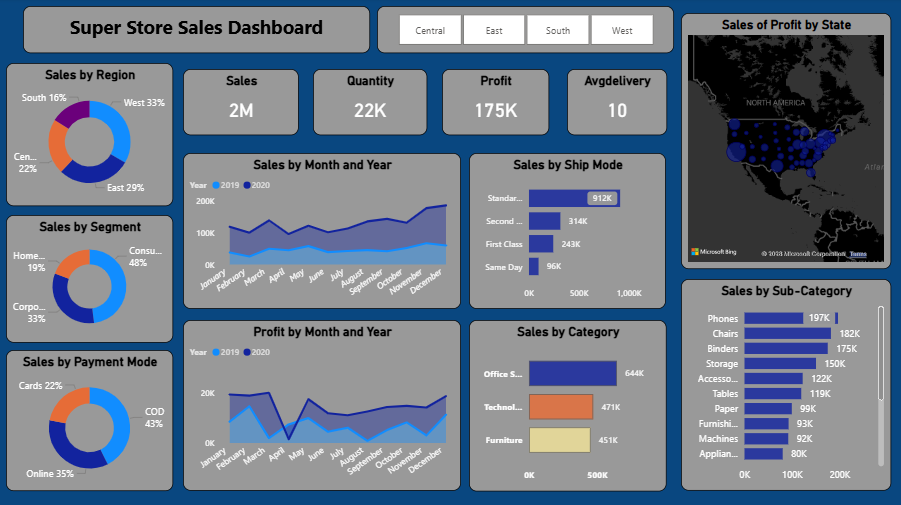

The dashboard page shown, as its layout file describes it:
{"tool":"powerbi","page":{"name":"P1 Sales Dashboard","canvas":[1280,720],"ordinal":0},"visuals":[{"type":"clusteredBarChart","title":"Sales by Category","fields":{"Category":["SuperStore_Sales_Dataset.Category"],"Y":["Sum(SuperStore_Sales_Dataset.Sales)"]},"box":[667.1,455.7,280,242.9],"z":0},{"type":"clusteredBarChart","title":"Sales by Sub-Category","fields":{"Category":["SuperStore_Sales_Dataset.Sub-Category"],"Y":["Sum(SuperStore_Sales_Dataset.Sales)"]},"box":[968,398.3,297.6,300.5],"z":1000},{"type":"clusteredBarChart","title":"Sales by Ship Mode","fields":{"Category":["SuperStore_Sales_Dataset.Ship Mode"],"Y":["Sum(SuperStore_Sales_Dataset.Sales)"]},"box":[667.6,219.7,279.2,221.1],"z":2000},{"type":"map","title":"Sales of Profit by State","fields":{"Category":["SuperStore_Sales_Dataset.State"],"Size":["Sum(SuperStore_Sales_Dataset.Sales)"]},"box":[968,21.3,297.6,362.8],"z":3000},{"type":"donutChart","title":"Sales by Segment","fields":{"Category":["SuperStore_Sales_Dataset.Segment"],"Y":["Sum(SuperStore_Sales_Dataset.Sales)"]},"box":[11.3,307.6,236.7,181.4],"z":4000},{"type":"donutChart","title":"Sales by Payment Mode","fields":{"Y":["Sum(SuperStore_Sales_Dataset.Sales)"],"Category":["SuperStore_Sales_Dataset.Payment Mode"]},"box":[11.3,498.9,236.7,199.8],"z":5000},{"type":"slicer","fields":{"Values":["SuperStore_Sales_Dataset.Region"]},"box":[537.2,11.3,420.9,66.6],"z":6000},{"type":"textbox","box":[35.4,11.3,491.8,66.6],"z":7000},{"type":"card","title":"Sales","fields":{"Values":["Sum(SuperStore_Sales_Dataset.Sales)"]},"box":[262.2,100.6,164.4,93.5],"z":8000},{"type":"card","title":"Quantity","fields":{"Values":["Sum(SuperStore_Sales_Dataset.Quantity)"]},"box":[446.5,100.6,161.6,93.5],"z":9000},{"type":"card","title":"Profit","fields":{"Values":["Sum(SuperStore_Sales_Dataset.Profit)"]},"box":[629.3,100.6,151.7,93.5],"z":10000},{"type":"stackedAreaChart","title":"Sales by Month and Year","fields":{"Y":["Sum(SuperStore_Sales_Dataset.Sales)"],"Category":["SuperStore_Sales_Dataset.Order Date.Variation.Date Hierarchy.Month"],"Series":["SuperStore_Sales_Dataset.Order Date.Variation.Date Hierarchy.Year"]},"box":[262.2,219.7,394,221.1],"z":11000},{"type":"stackedAreaChart","title":"Profit by Month and Year","fields":{"Category":["SuperStore_Sales_Dataset.Order Date.Variation.Date Hierarchy.Month"],"Series":["SuperStore_Sales_Dataset.Order Date.Variation.Date Hierarchy.Year"],"Y":["Sum(SuperStore_Sales_Dataset.Profit)"]},"box":[262.2,456.4,394,242.4],"z":12000},{"type":"card","title":"Avgdelivery","fields":{"Values":["Avg(SuperStore_Sales_Dataset.AvgDelivery)"]},"box":[806.5,100.6,141.7,93.5],"z":13000},{"type":"donutChart","title":"Sales by Region","fields":{"Y":["Sum(SuperStore_Sales_Dataset.Sales)"],"Category":["SuperStore_Sales_Dataset.Region"]},"box":[11.3,92.1,236.7,202.7],"z":13001}]}

Visuals, with their boxes in screenshot pixels (x1, y1, x2, y2), scaled from the page's 1280x720 canvas onto the 901x505 screenshot:
"Sales by Category" clusteredBarChart: locate(470, 320, 667, 490)
"Sales by Sub-Category" clusteredBarChart: locate(681, 279, 891, 490)
"Sales by Ship Mode" clusteredBarChart: locate(470, 154, 666, 309)
"Sales of Profit by State" map: locate(681, 15, 891, 269)
"Sales by Segment" donutChart: locate(8, 216, 175, 343)
"Sales by Payment Mode" donutChart: locate(8, 350, 175, 490)
slicer - SuperStore_Sales_Dataset.Region: locate(378, 8, 674, 55)
textbox: locate(25, 8, 371, 55)
"Sales" card: locate(185, 71, 300, 136)
"Quantity" card: locate(314, 71, 428, 136)
"Profit" card: locate(443, 71, 550, 136)
"Sales by Month and Year" stackedAreaChart: locate(185, 154, 462, 309)
"Profit by Month and Year" stackedAreaChart: locate(185, 320, 462, 490)
"Avgdelivery" card: locate(568, 71, 667, 136)
"Sales by Region" donutChart: locate(8, 65, 175, 207)
